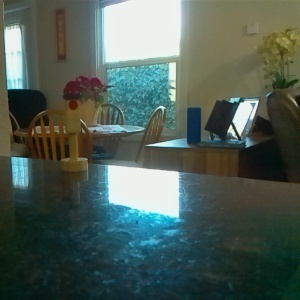traffic light red: (57, 92, 89, 173)
